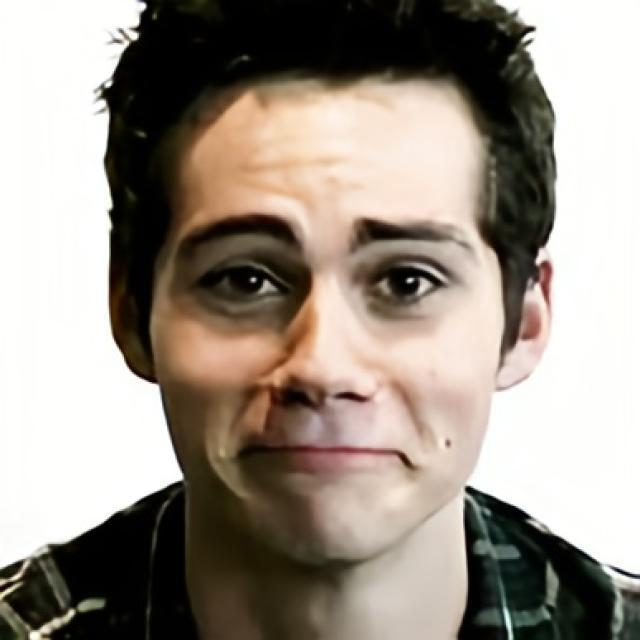content: (152, 74, 504, 566)
